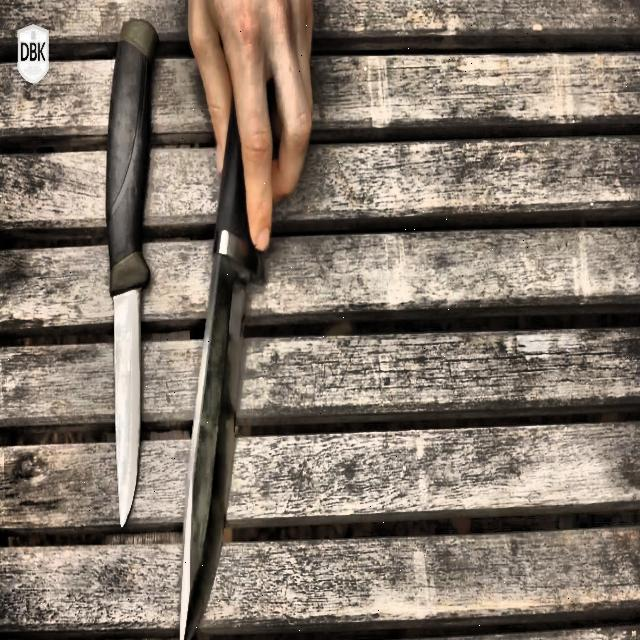knife: (181, 80, 276, 640), (108, 23, 156, 531)
